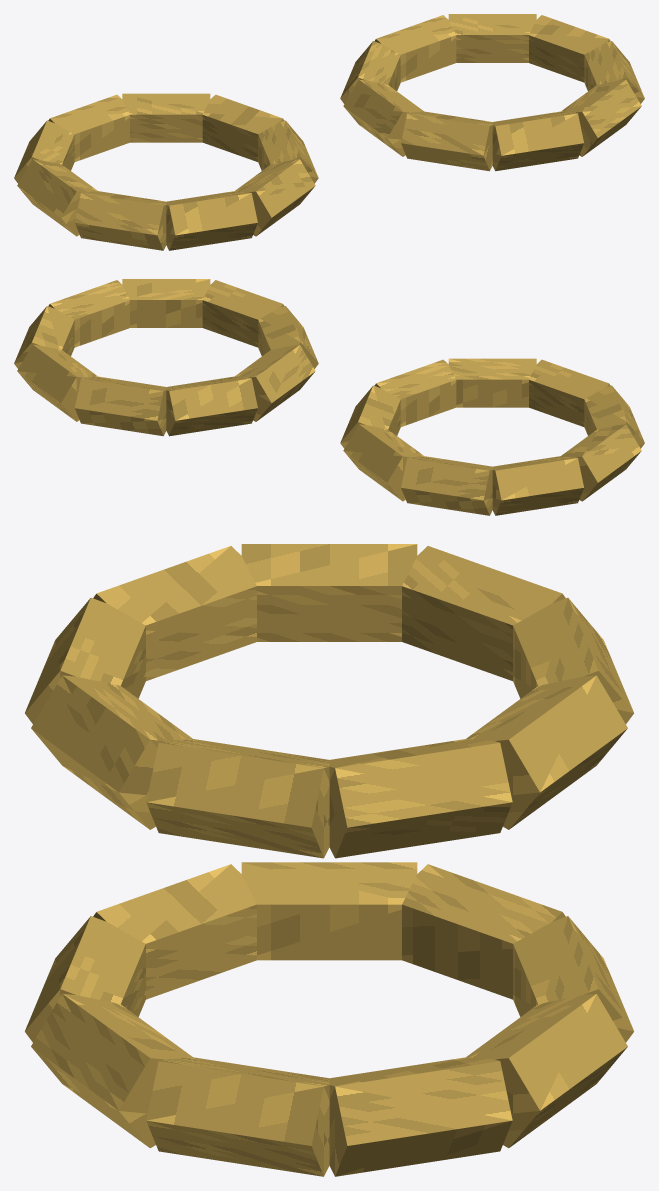
Rendered from gold_ear.glb.
The picture shows the model from 3 angles, top to bottom: view 1: azimuth 30°, elevation 25°; view 2: azimuth 150°, elevation 25°; view 3: azimuth 270°, elevation 25°; orthographic projection. The views are drawn at different scales.
Parts seen in each view (by area): view 1: block_earring loop3 (×2), block_earring loop2 (×2), block_earring loop7 (×2), block_earring loop8 (×2), block_earring loop6 (×2), block_earring loop1 (×2), block_earring loop4 (×2), block_earring loop0 (×2), block_earring loop5 (×2); view 2: block_earring loop5 (×2), block_earring loop6 (×2), block_earring loop1 (×2), block_earring loop0 (×2), block_earring loop2 (×2), block_earring loop7 (×2), block_earring loop4 (×2), block_earring loop8 (×2), block_earring loop3 (×2); view 3: block_earring loop0 (×2), block_earring loop8 (×2), block_earring loop4 (×2), block_earring loop3 (×2), block_earring loop5 (×2), block_earring loop1 (×2), block_earring loop7 (×2), block_earring loop2 (×2), block_earring loop6 (×2).
Part boxes in pixels (x1,y1,x2,y2): block_earring loop3 (×2): (75, 111, 492, 250); block_earring loop2 (×2): (166, 111, 583, 250); block_earring loop7 (×2): (122, 14, 536, 142); block_earring loop8 (×2): (202, 15, 610, 161); block_earring loop6 (×2): (48, 15, 456, 161); block_earring loop1 (×2): (235, 79, 641, 236); block_earring loop4 (×2): (17, 79, 423, 236); block_earring loop0 (×2): (258, 41, 644, 183); block_earring loop5 (×2): (14, 41, 400, 183); block_earring loop5 (×2): (166, 376, 583, 515); block_earring loop6 (×2): (75, 376, 492, 515); block_earring loop1 (×2): (122, 279, 536, 407); block_earring loop0 (×2): (48, 280, 456, 426); block_earring loop2 (×2): (202, 280, 610, 426); block_earring loop7 (×2): (17, 344, 423, 501); block_earring loop4 (×2): (235, 344, 641, 501); block_earring loop8 (×2): (14, 306, 400, 448); block_earring loop3 (×2): (258, 306, 644, 448); block_earring loop0 (×2): (146, 739, 329, 1176); block_earring loop8 (×2): (329, 739, 512, 1176); block_earring loop4 (×2): (241, 544, 417, 960); block_earring loop3 (×2): (93, 546, 256, 999); block_earring loop5 (×2): (402, 546, 565, 999); block_earring loop1 (×2): (31, 675, 192, 1148); block_earring loop7 (×2): (466, 675, 627, 1148); block_earring loop2 (×2): (25, 597, 145, 1042); block_earring loop6 (×2): (513, 597, 633, 1042).
Size of the model in its own units: 0.0187 by 0.00138 by 0.00842.
1 material, 1 textured.
